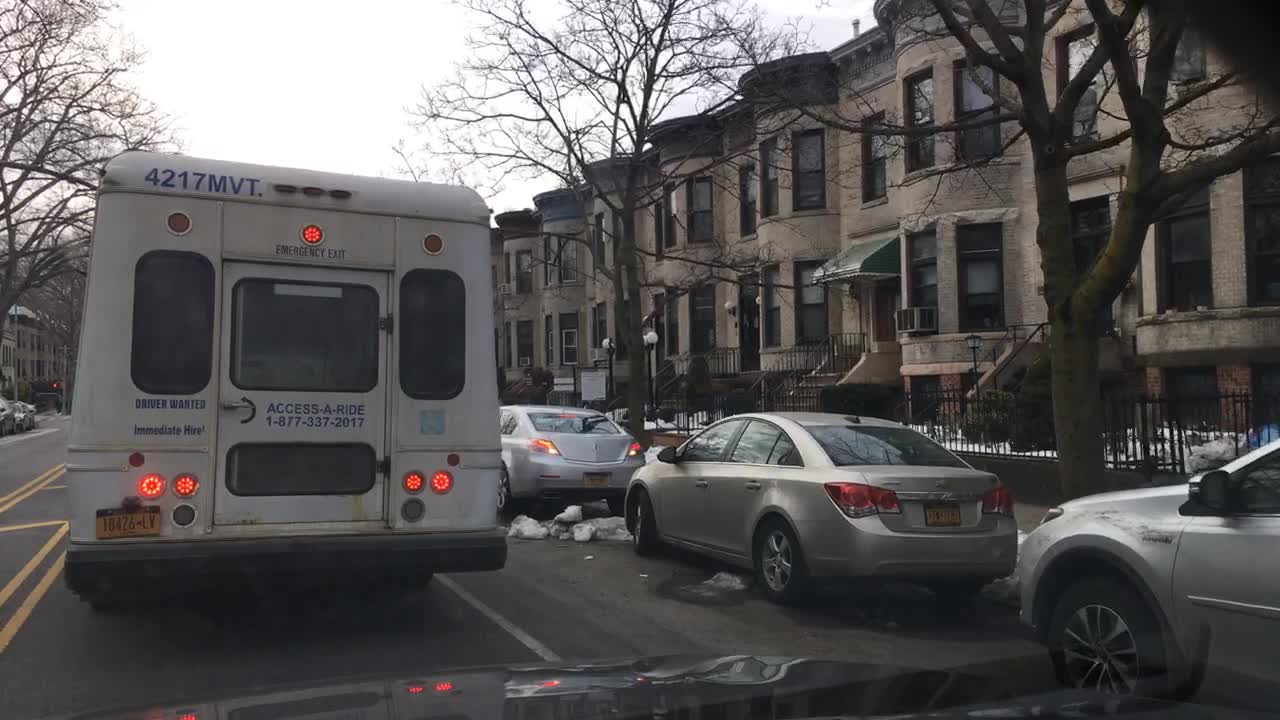bus: (63, 147, 507, 611)
car: (621, 409, 1018, 606), (1015, 435, 1279, 716), (498, 403, 648, 520), (9, 400, 34, 434), (0, 395, 18, 439)
traffic light: (50, 380, 61, 390)
